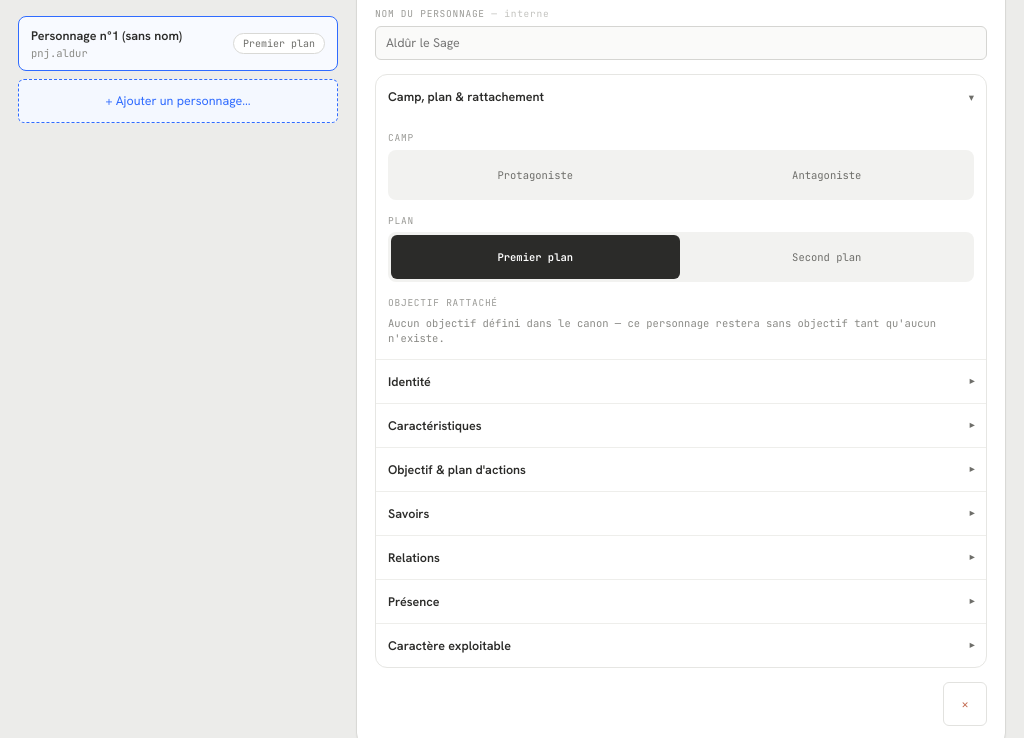
FichePersonnage - bloc Caractere › au plafond PARLER_REPLIQUES la CTA d ajout est absente du DOM, legende affichee
What coordinates should you click on to do the following:
click the button "Caractère exploitable ▾"
I would click on:
 (449, 645)
Its box is [376,623,986,667].
(page scrolled)
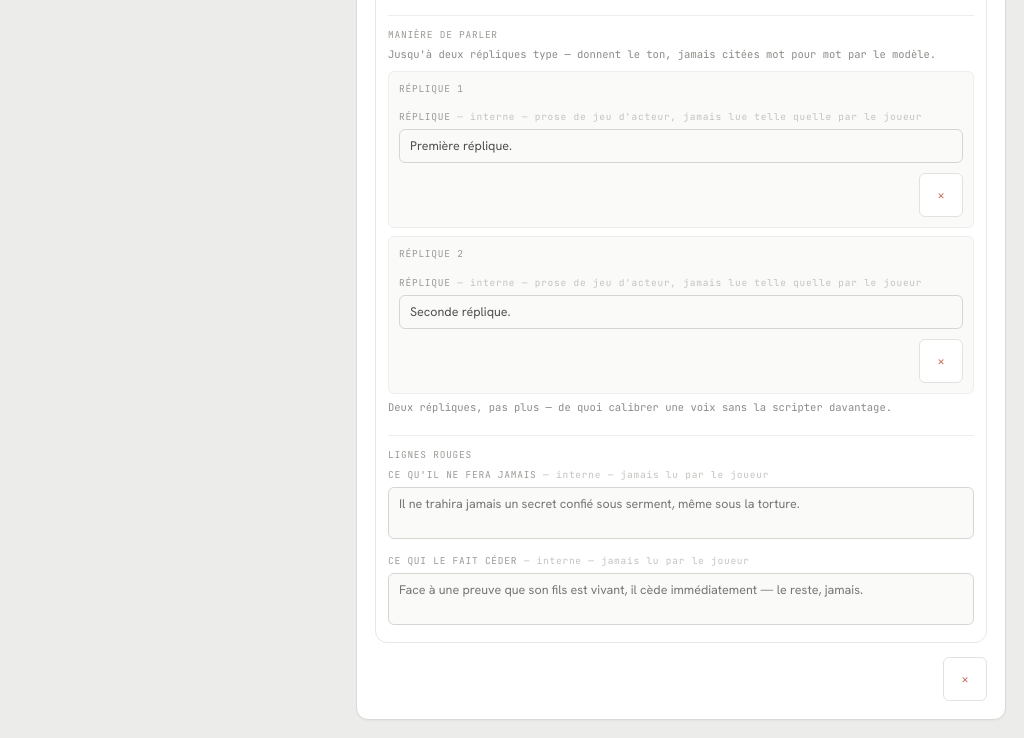
Result: the field showing "Première réplique." below "RÉPLIQUE 1" is shown at [399,129,963,163]
Result: the field showing "Seconde réplique." below "RÉPLIQUE 2" is shown at [399,295,963,329]
Result: the text "Deux répliques, pas plus — de quoi calibrer une voix sans la scripter davantage." is shown at [388,400,974,415]
